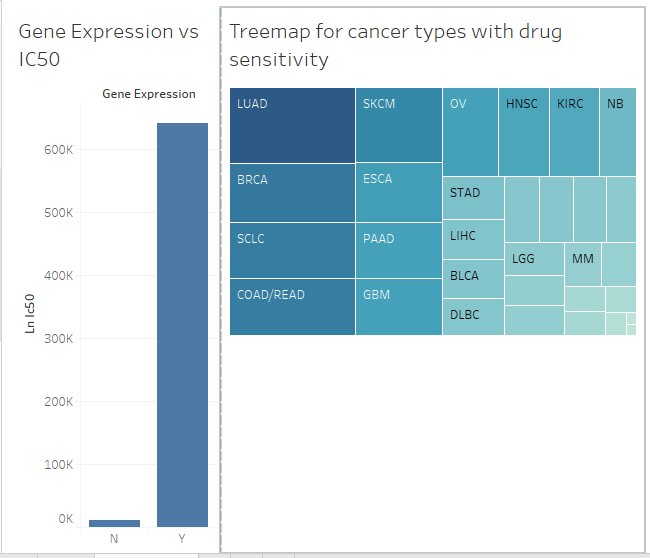

This screenshot's page, from the dashboard's own definition file:
{"tool":"tableau","page":{"name":"Dashboard 1","canvas":[650,860],"ordinal":0},"visuals":[{"type":"worksheet","title":"Sheet 2","mark":"Automatic","rows":["LN_IC50"],"cols":["Gene Expression"],"box":[8,12.3,211.3,835.4]},{"type":"worksheet","title":"Sheet 3","mark":"Automatic","box":[219.3,12.3,422.7,835.4]}]}

Visuals, with their boxes on the page's 650x860 design canvas (x1, y1, x2, y2). These are canvas units, not pixel positions in the 650x558 screenshot, which may show the page scaled, cropped or inside an application window:
"Sheet 2" worksheet: bbox(8, 12, 219, 848)
"Sheet 3" worksheet: bbox(219, 12, 642, 848)
